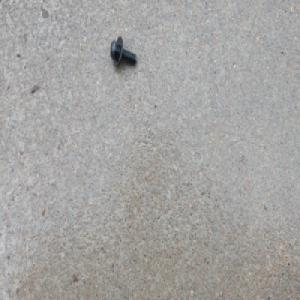BoltWasher: (110, 35, 138, 68)
